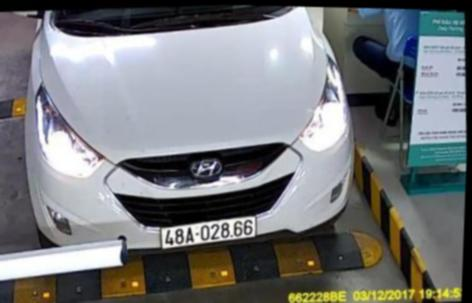License_Plate: (154, 213, 262, 255)
